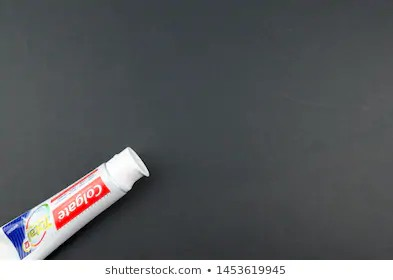colgate-total-150gm: (1, 144, 153, 259)
